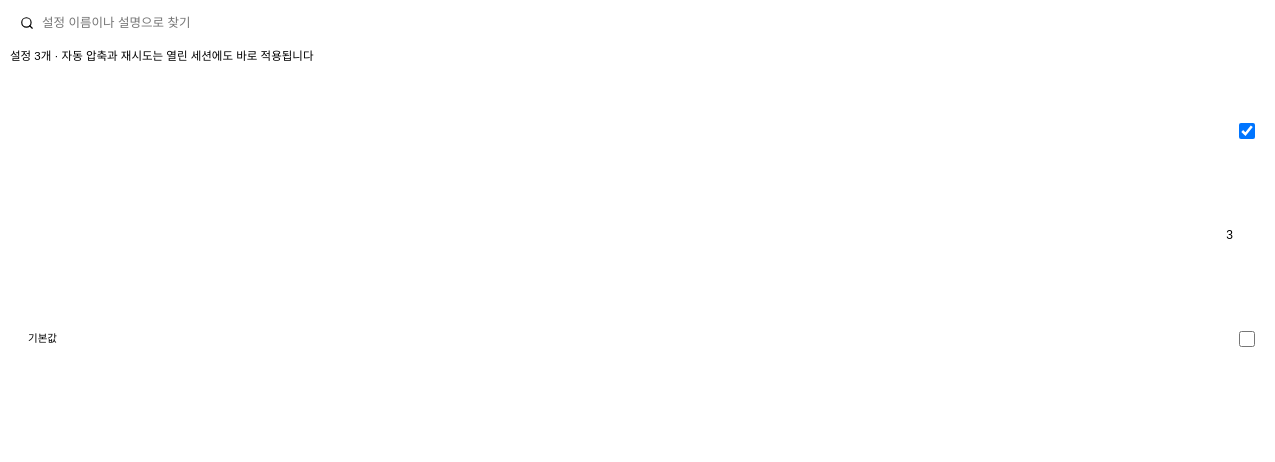
it: GjcSettingsPanel › drops an edit that returns to the saved value
Click the checkbox named "retry.enabled" at (1247, 131), box [1239,123,1255,139]
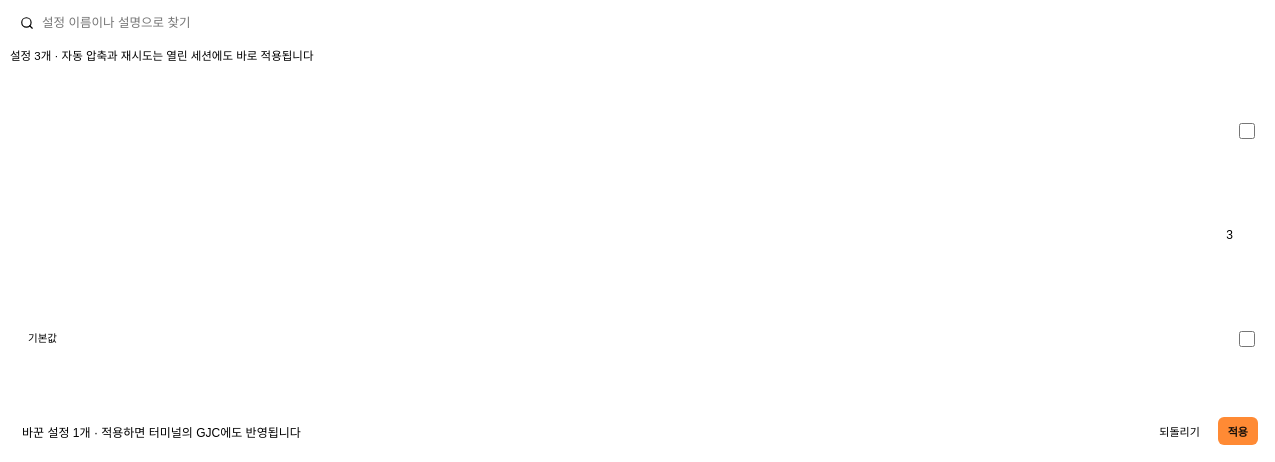
expect the element with class "gjc-settings-apply" is shown: met, box [22,417,1258,445]
Click the checkbox named "retry.enabled" at (1247, 131), box [1239,123,1255,139]
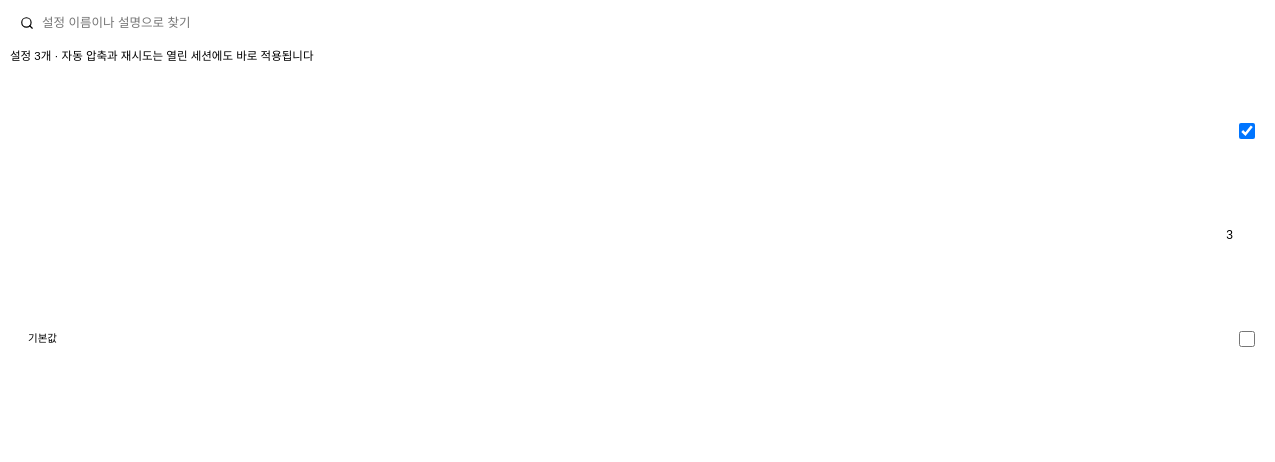
expect the element with class "gjc-settings-apply" is gone: met
